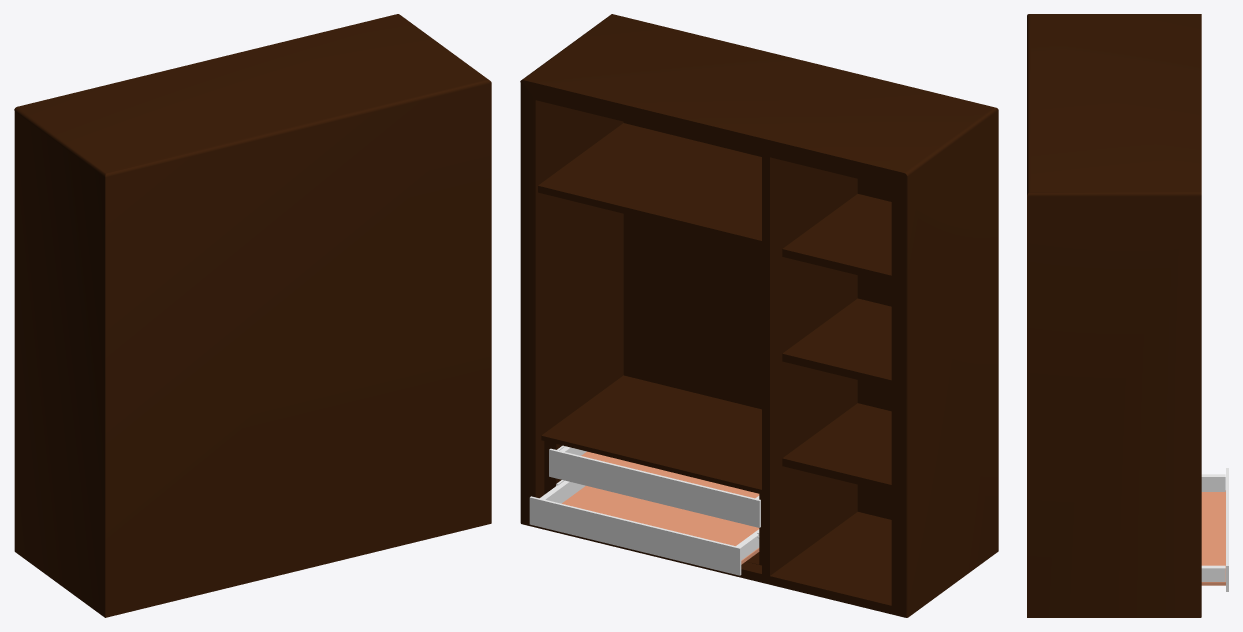
File: luxury-wardrobe-closet-for-modern-interiors.glb
3 views of the same model, side by side, from view 1: azimuth 30°, elevation 25°; view 2: azimuth 150°, elevation 25°; view 3: azimuth 270°, elevation 25° (orthographic). The views are drawn at different scales.
Parts seen in each view (by area): view 1: Object_7; view 2: Object_7, Object_18; view 3: Object_7, Object_18.
Boxes of the visible parts, x1,y1,x2,y2 form: Object_7: [14, 14, 491, 617]; Object_7: [520, 14, 998, 617]; Object_18: [562, 451, 759, 564]; Object_7: [1027, 14, 1228, 617]; Object_18: [1201, 490, 1225, 585].
Bounding box in the file's own units: 3.42 × 3.76 × 1.62.
2 materials, 2 textured.
